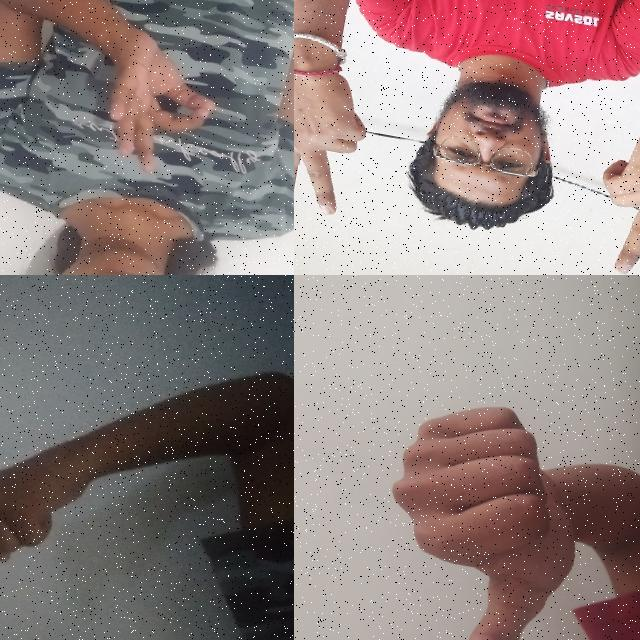Middle Finger: (0, 414, 104, 627)
Okay: (85, 3, 238, 182)
Reversed Victory: (294, 37, 386, 226), (577, 83, 640, 275)
Thumbs Up: (350, 376, 615, 640)
